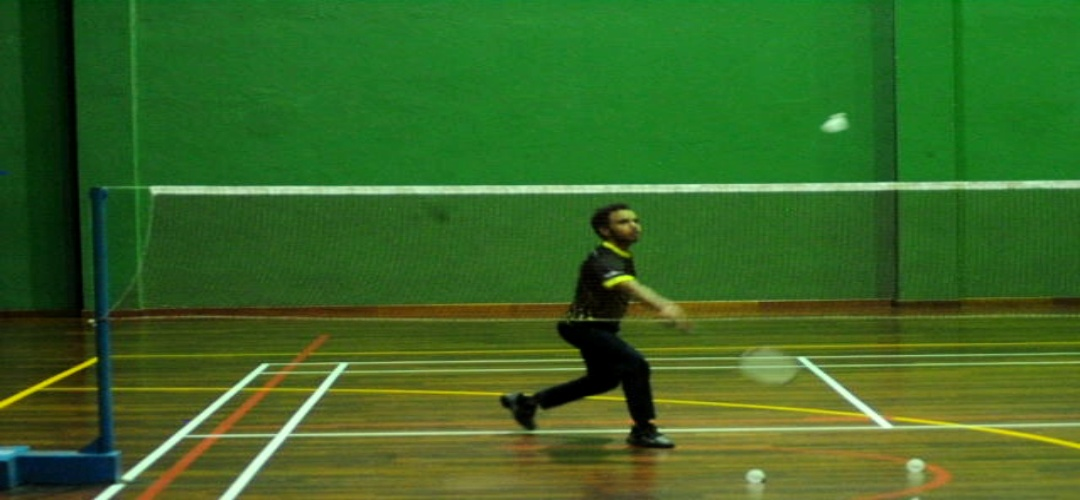c1: (272, 427, 299, 444)
c2: (876, 416, 901, 439)
player: (501, 202, 676, 449)
shuttle: (822, 108, 852, 136)
